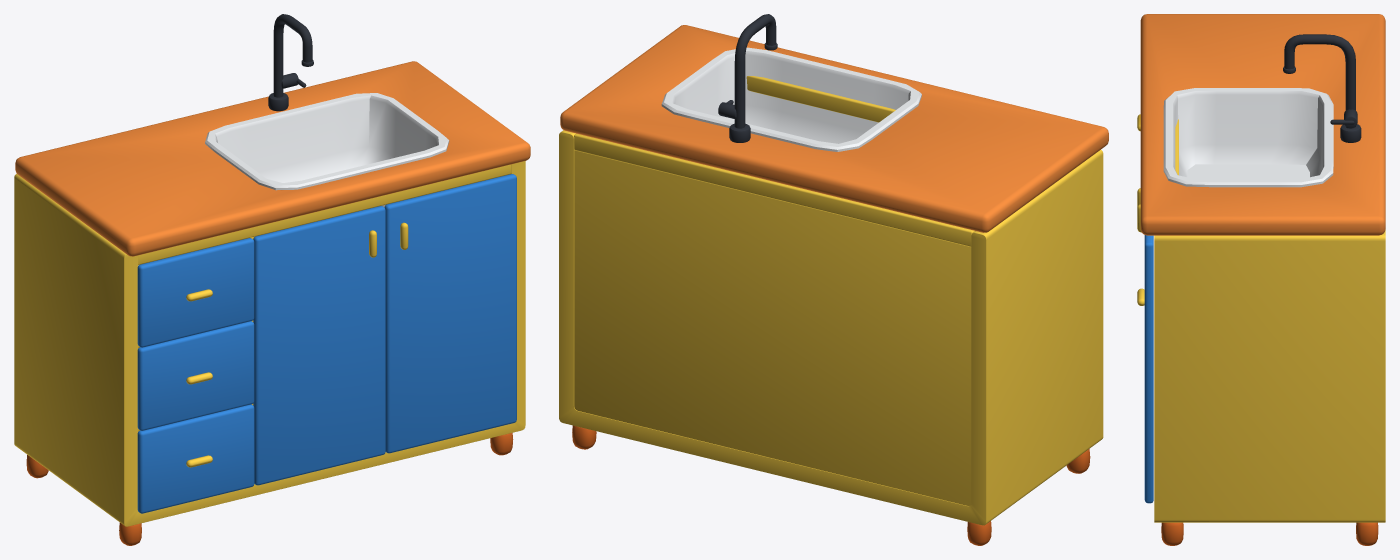
File: armario_cozinha_pia_moderna.glb
The picture shows the model from 3 angles, left to right: view 1: azimuth 30°, elevation 25°; view 2: azimuth 150°, elevation 25°; view 3: azimuth 270°, elevation 25°; orthographic projection. The views are drawn at different scales.
Visible parts, largest first — view 1: armario_cozinha_pia_moderna, porta_1, porta_2, gaveta_1, gaveta_2, gaveta_3; view 2: armario_cozinha_pia_moderna; view 3: armario_cozinha_pia_moderna, porta_2.
Boxes of the visible parts, left/top/right/bottom form: armario_cozinha_pia_moderna: left=14, top=14, right=530, bottom=545; porta_1: left=253, top=206, right=385, bottom=485; porta_2: left=384, top=174, right=516, bottom=453; gaveta_1: left=137, top=238, right=254, bottom=347; gaveta_2: left=137, top=321, right=254, bottom=430; gaveta_3: left=137, top=404, right=254, bottom=513; armario_cozinha_pia_moderna: left=559, top=14, right=1108, bottom=545; armario_cozinha_pia_moderna: left=1140, top=14, right=1385, bottom=545; porta_2: left=1137, top=204, right=1153, bottom=503.
Bounding box in the file's own units: 1.2 × 1.18 × 0.607.
1 material, 1 textured.
